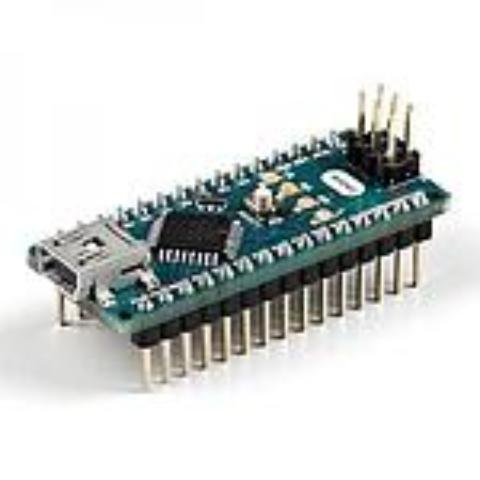Arduino-Nano: (15, 75, 459, 401)
